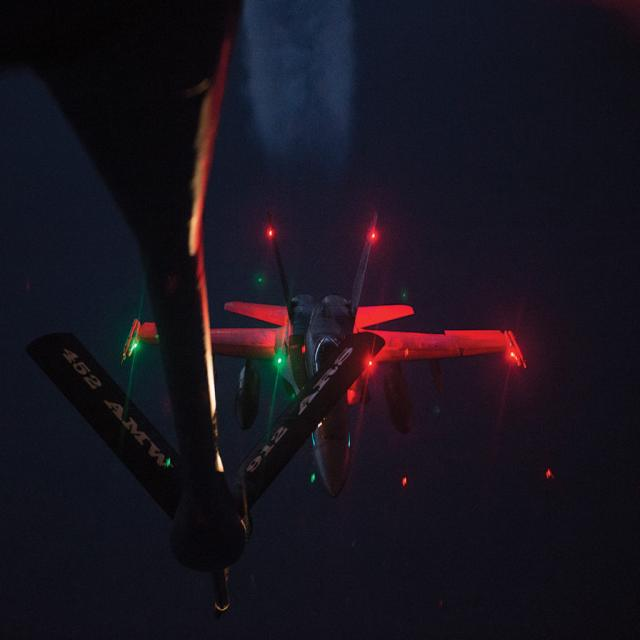MIL_Plane: (120, 211, 528, 500)
